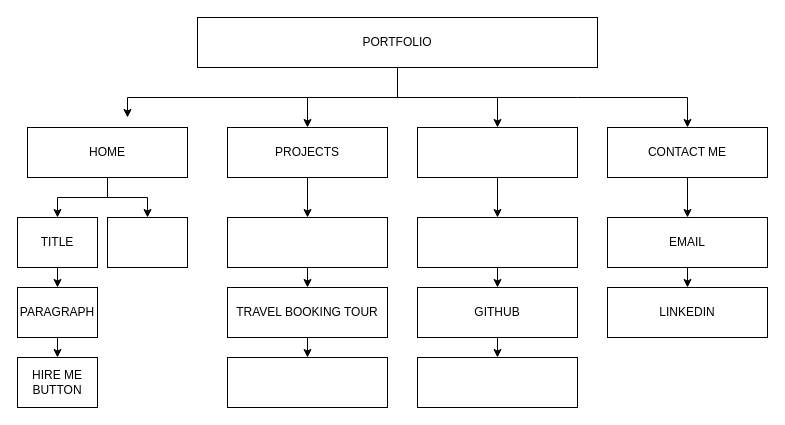
Image size: 785x425. Some labels were removed from this diagram. Here are the shapes that lost their labels. From the top down, the centre of each, then its label:
point 497,152: SKILLS
point 147,242: IMAGE
point 307,242: LANDING BUSINESS PAGE
point 497,242: HTML/CSS/JS
point 307,382: PLAYSCHOOL PAGE
point 497,382: NODE.JS
